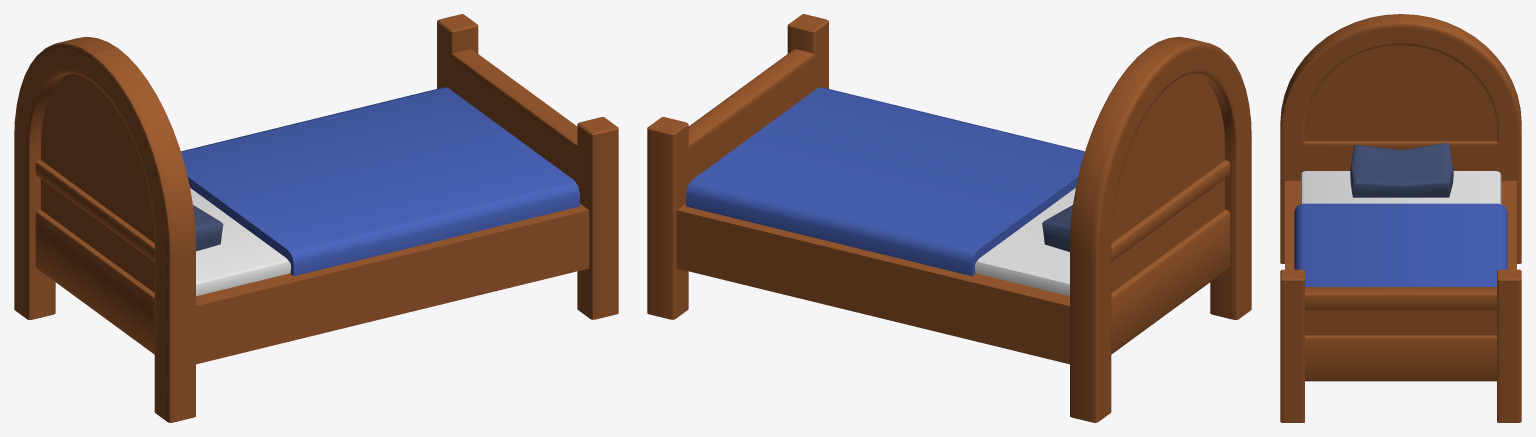
The model's file is Bed.fbx.
3 views of the same model, side by side, from view 1: azimuth 30°, elevation 25°; view 2: azimuth 150°, elevation 25°; view 3: azimuth 270°, elevation 25° (orthographic). The views are drawn at different scales.
Parts seen in each view (by area): view 1: Cube, Cube.002, Cube.003; view 2: Cube, Cube.002, Cube.003; view 3: Cube, Cube.002, Cube.003.
Boxes of the visible parts, x1=… form: Cube: x1=14, y1=14, x2=618, y2=422; Cube.002: x1=181, y1=87, x2=579, y2=275; Cube.003: x1=193, y1=205, x2=223, y2=251; Cube: x1=647, y1=14, x2=1251, y2=422; Cube.002: x1=686, y1=87, x2=1084, y2=275; Cube.003: x1=1042, y1=205, x2=1072, y2=251; Cube: x1=1280, y1=14, x2=1521, y2=422; Cube.002: x1=1294, y1=203, x2=1507, y2=286; Cube.003: x1=1350, y1=142, x2=1453, y2=197.
Size of the model in its own units: 350 by 232 by 211.
